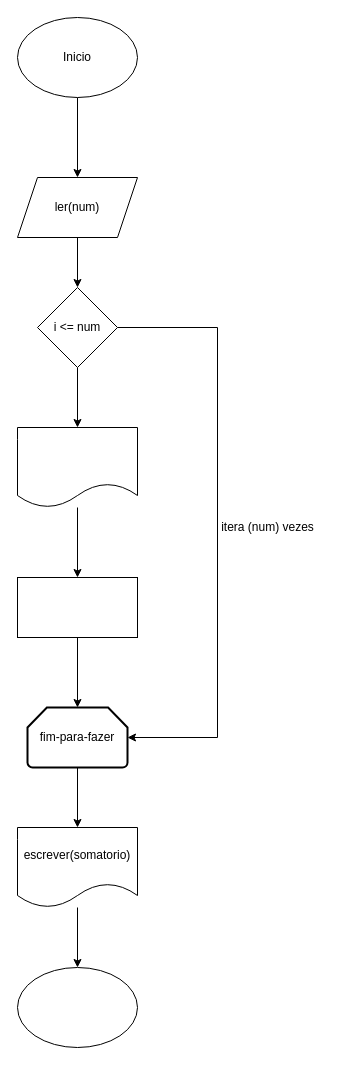
This 340x1065 diagram has some shape labels left out. Here are the shapes that lost their labels. From the top down, the centre of each, then its label:
(77,467): escrever(i)
(77,607): somatorio = somatorio +i
(77,1007): Fim
